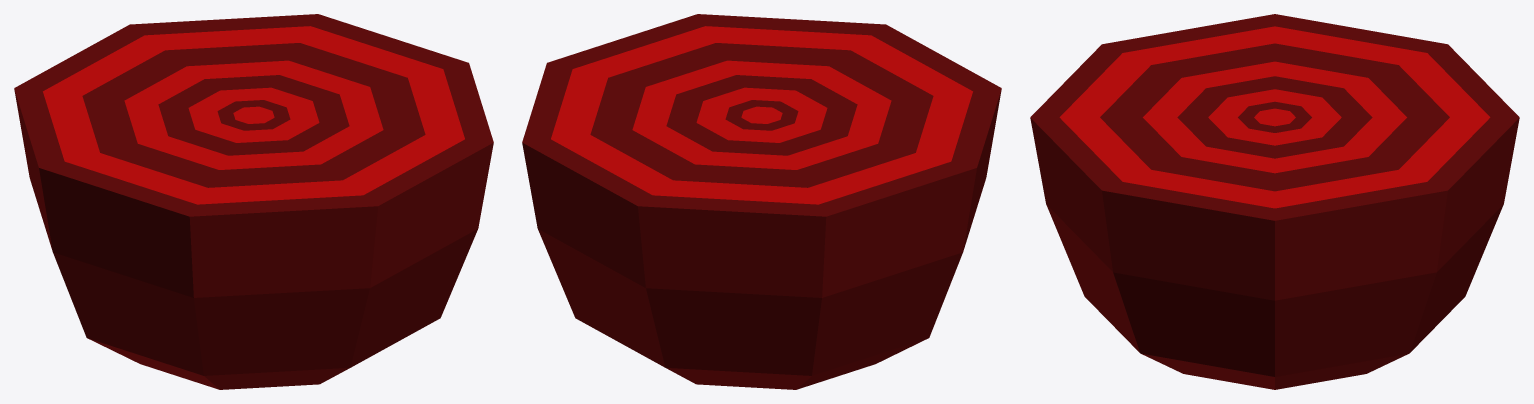
The model's file is beetroot02.obj.
The picture shows the model from 3 angles, left to right: view 1: azimuth 30°, elevation 25°; view 2: azimuth 150°, elevation 25°; view 3: azimuth 270°, elevation 25°; orthographic projection.
Parts seen in each view (by area): view 1: Cylinder_Cylinder.001; view 2: Cylinder_Cylinder.001; view 3: Cylinder_Cylinder.001.
Part boxes in pixels (box(x1,y1,x2,y2)): Cylinder_Cylinder.001: box(14, 14, 493, 389); Cylinder_Cylinder.001: box(522, 14, 1001, 389); Cylinder_Cylinder.001: box(1030, 14, 1519, 389).
Size of the model in its own units: 0.0725 by 0.0401 by 0.0725.
1 material, 1 textured.
